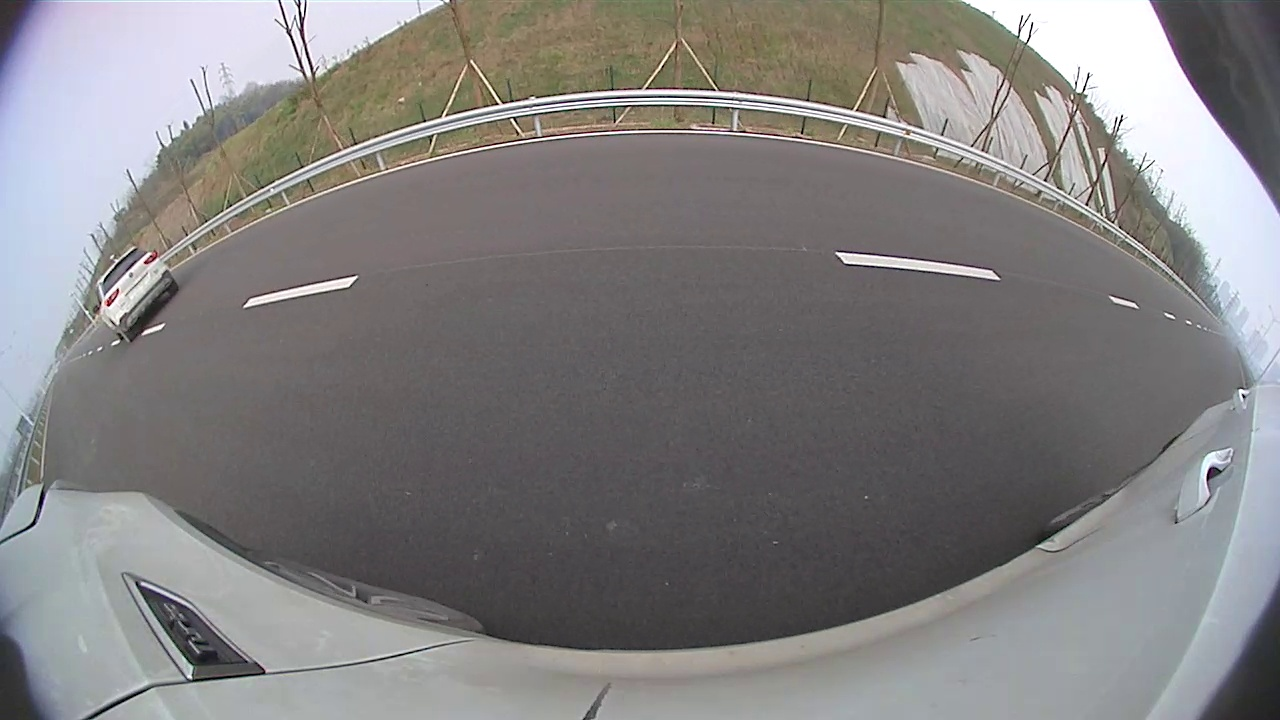car: (97, 246, 179, 343)
